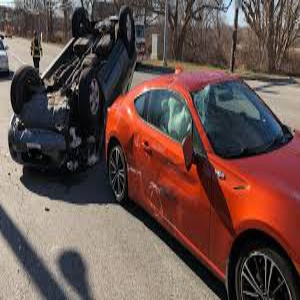door_scratch: (128, 165, 175, 213)
